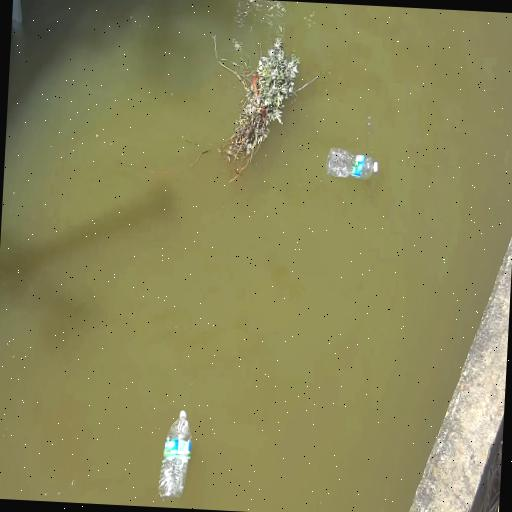plastic: (159, 411, 192, 498), (327, 149, 378, 179)
twig: (216, 38, 309, 176)
